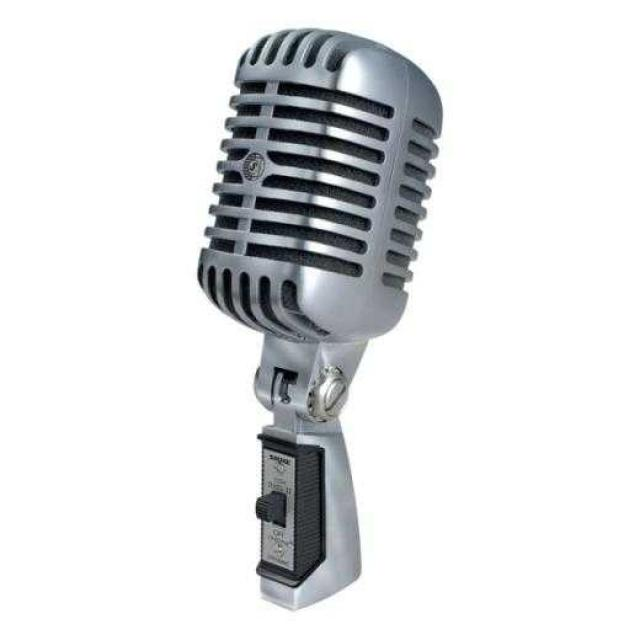microphone: (193, 22, 450, 449)
